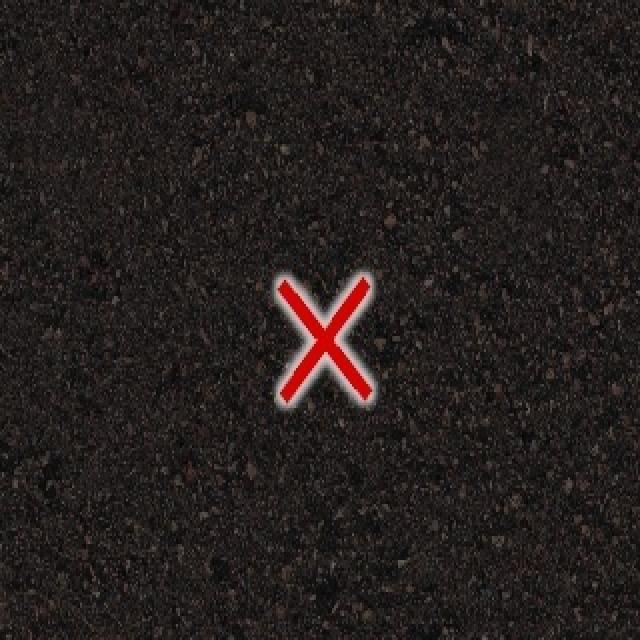x_marker: (277, 276, 371, 401)
